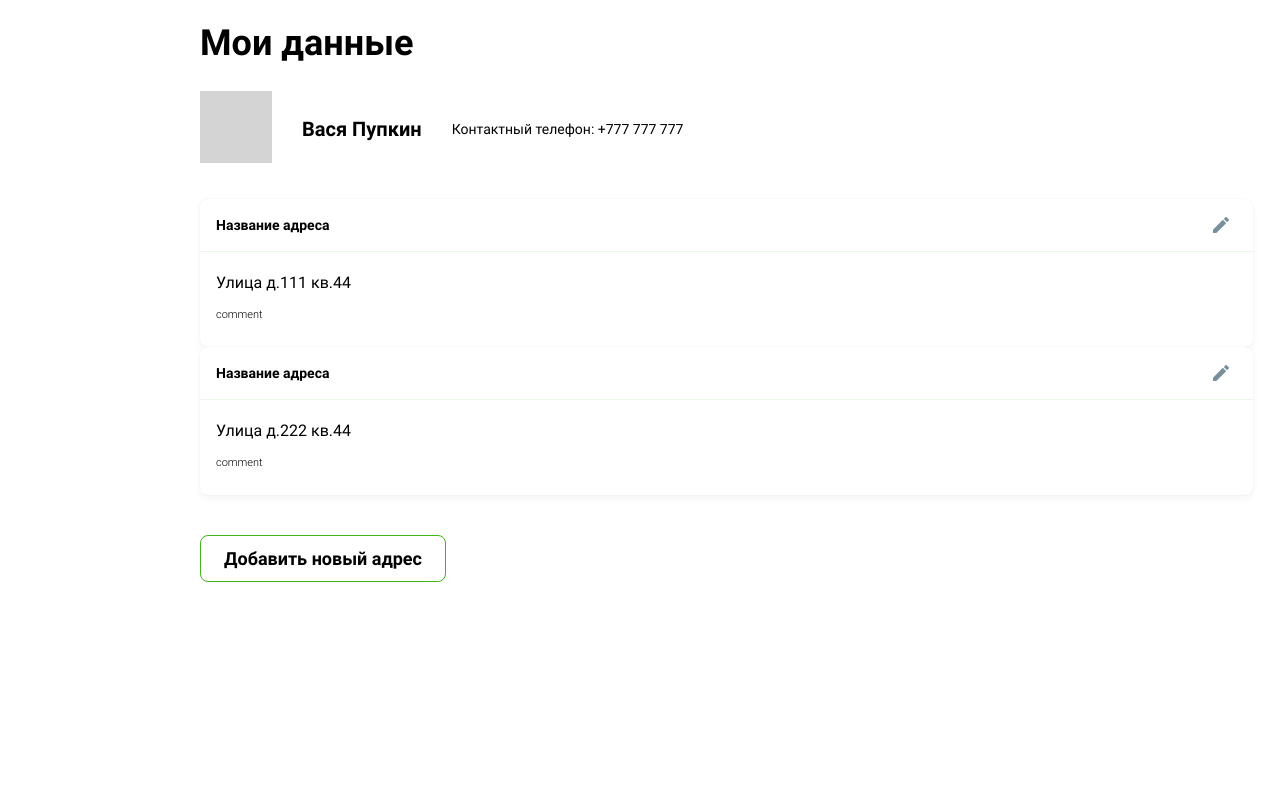
Test: Profile › when triggered editAddress button › should display address data in edit form › should display address name in input
Step 1. Click the 1st button → (1221, 225), box [1205, 209, 1237, 241]
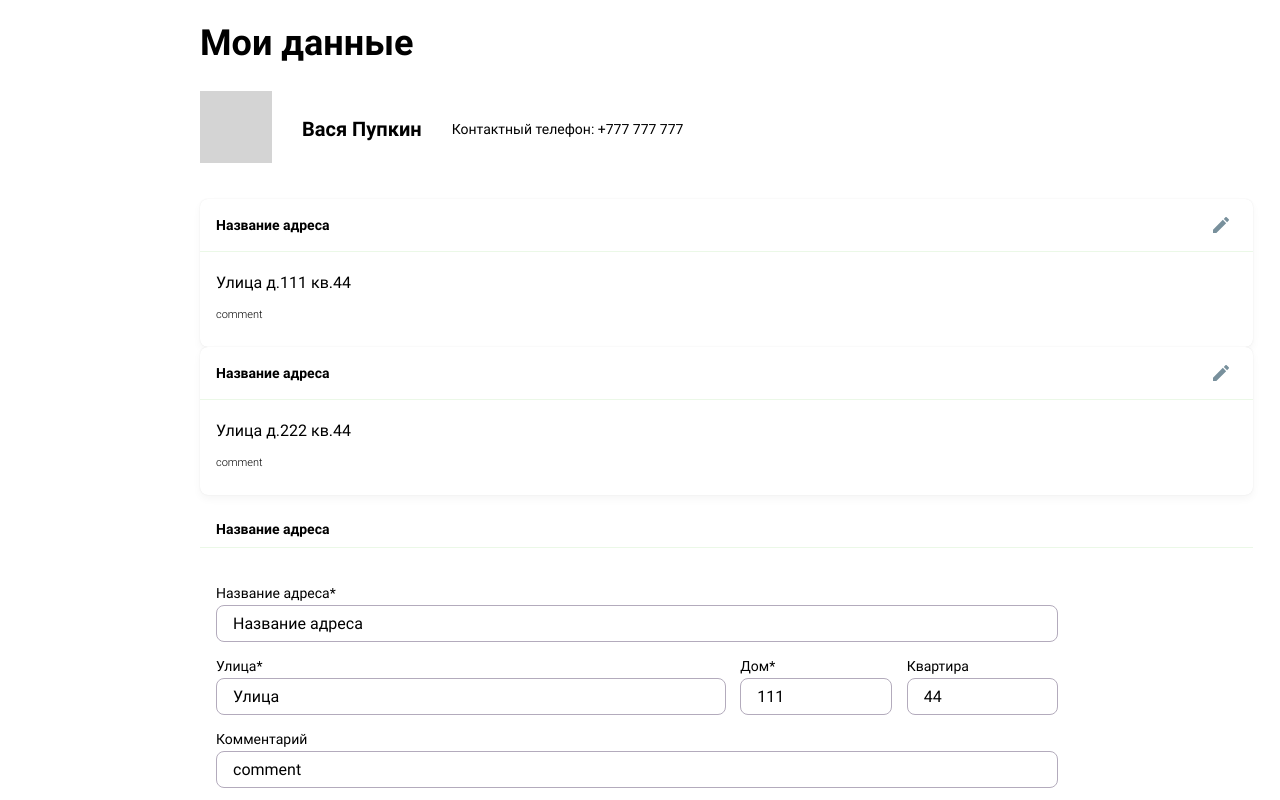
Check: the field named "addr-name" holds "Название адреса", box [216, 605, 1058, 642]
